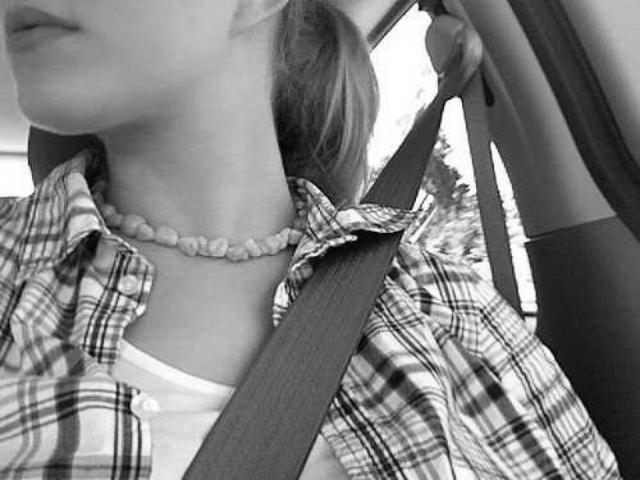Seatbelt: (172, 104, 448, 480)
